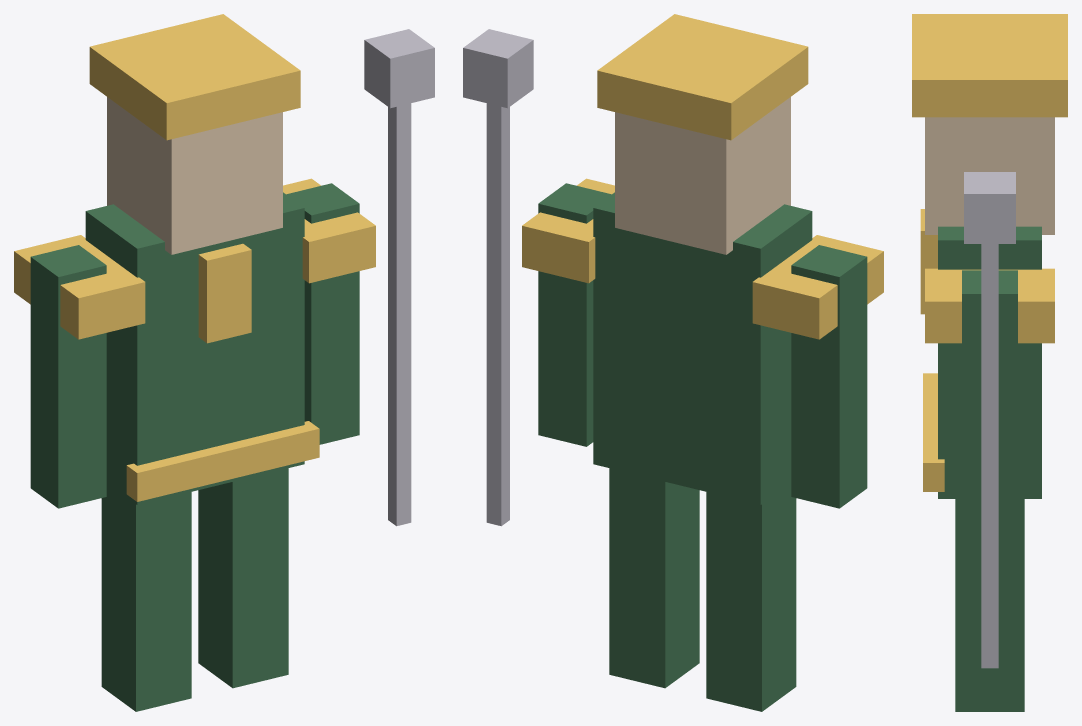
File: 17_asha_holloway_pilgrim_from.glb
3 views of the same model, side by side, from view 1: azimuth 30°, elevation 25°; view 2: azimuth 150°, elevation 25°; view 3: azimuth 270°, elevation 25° (orthographic).
Parts seen in each view (by area): view 1: Asha Holloway, Pilgrim from; view 2: Asha Holloway, Pilgrim from; view 3: Asha Holloway, Pilgrim from.
Boxes of the visible parts, bbox=[...] form: Asha Holloway, Pilgrim from: bbox=[14, 14, 434, 711]; Asha Holloway, Pilgrim from: bbox=[463, 14, 883, 711]; Asha Holloway, Pilgrim from: bbox=[912, 14, 1067, 711].
Bounding box in the file's own units: 1.07 × 1.69 × 0.3809.
